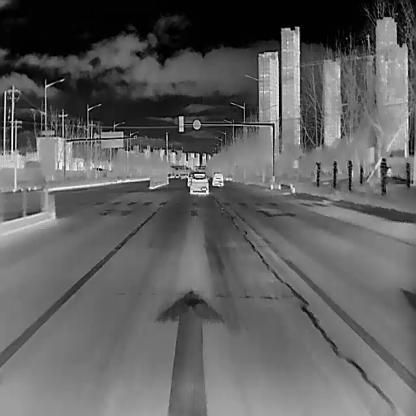car: (189, 171, 209, 194), (212, 171, 223, 186), (187, 172, 193, 186), (166, 172, 171, 177), (175, 172, 178, 178)
